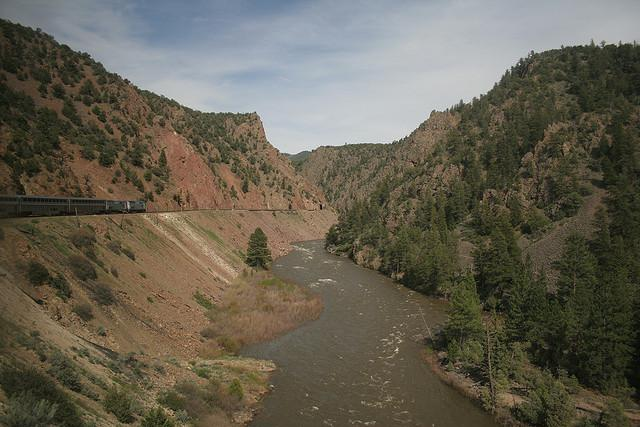Train: (0, 196, 147, 219)
